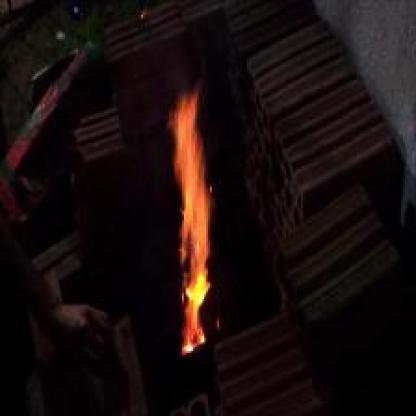fire: (163, 86, 221, 344)
